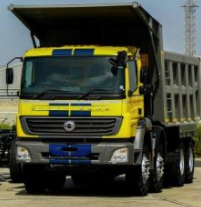truck: (5, 1, 201, 197)
